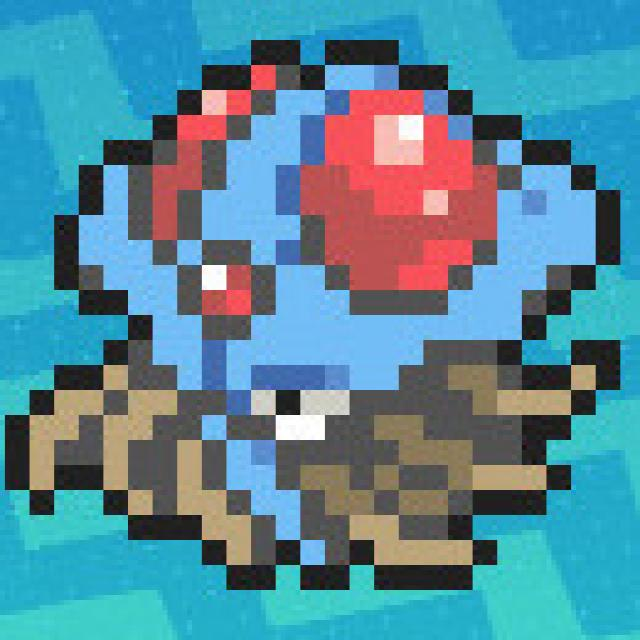Tentacruel: (5, 33, 640, 602)
